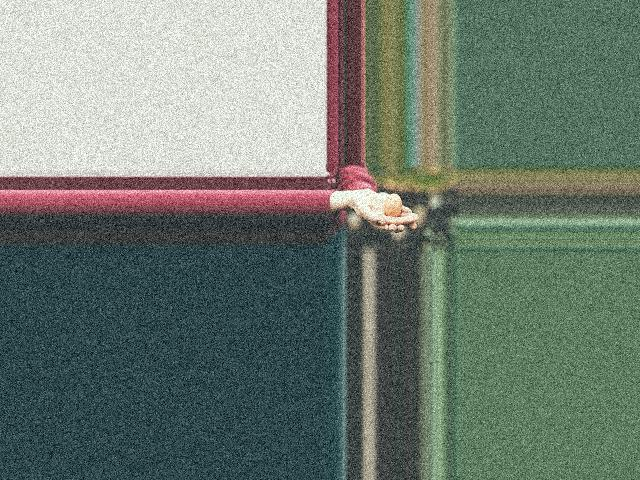egg: (384, 193, 401, 216)
